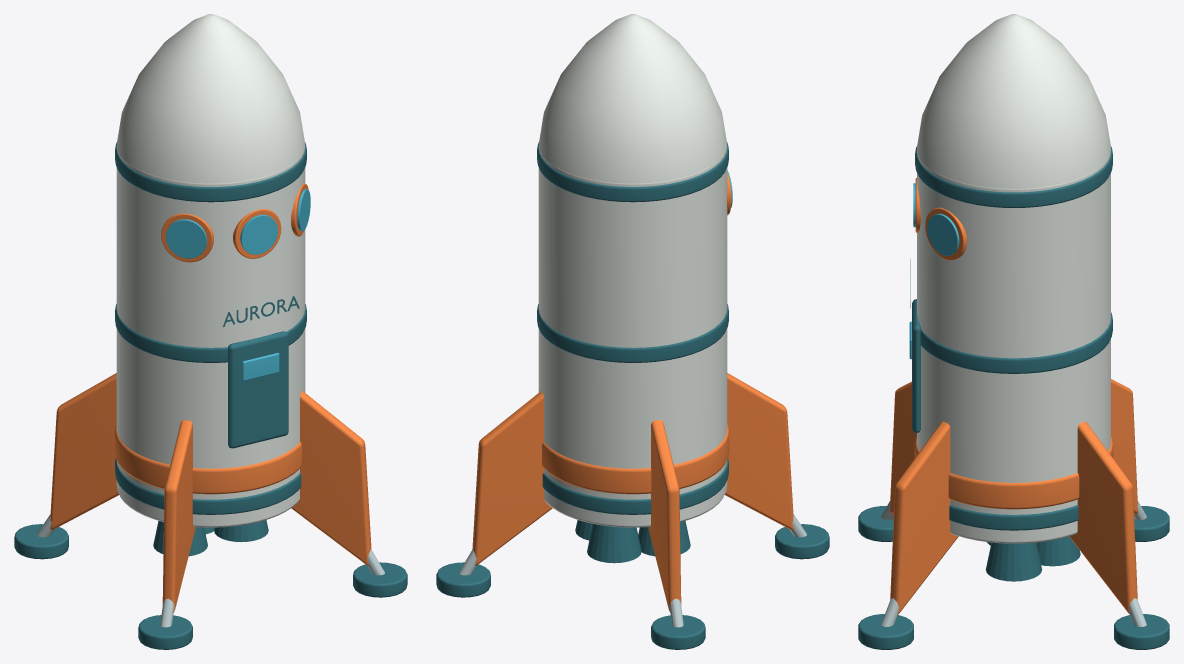
Rendered from Rocket_Return.glb.
3 renders of one model, left to right at view 1: azimuth 30°, elevation 25°; view 2: azimuth 150°, elevation 25°; view 3: azimuth 270°, elevation 25°, orthographic. The views are drawn at different scales.
Parts seen in each view (by area): view 1: Main pressure fuselage, Rounded command nose, Swept rounded fin.003, Swept rounded fin.001, Service hatch, Orange waist, Swept rounded fin.002, Hull teal ring.002, Hull teal ring, Hull teal ring.001, Landing pad.002, Landing pad.003 (+8 smaller); view 2: Main pressure fuselage, Rounded command nose, Swept rounded fin, Swept rounded fin.002, Orange waist, Swept rounded fin.001, Hull teal ring.001, Hull teal ring.002, Hull teal ring, Engine bell.002, Landing pad.001, Landing pad (+2 smaller); view 3: Main pressure fuselage, Rounded command nose, Swept rounded fin, Swept rounded fin.003, Orange waist, Hull teal ring.002, Hull teal ring.001, Swept rounded fin.001, Hull teal ring, Swept rounded fin.002, Engine bell.001, Landing pad (+7 smaller).
Part boxes in pixels (x1,y1,x2,y2): Main pressure fuselage: (116,145,305,527); Rounded command nose: (117,14,304,183); Swept rounded fin.003: (291,391,371,565); Swept rounded fin.001: (50,373,119,529); Service hatch: (228,331,288,448); Orange waist: (114,424,301,494); Swept rounded fin.002: (162,420,195,612); Hull teal ring.002: (115,142,306,202); Hull teal ring: (115,458,301,514); Hull teal ring.001: (115,304,306,362); Landing pad.002: (138,615,192,649); Landing pad.003: (353,562,407,597); Main pressure fuselage: (538,145,727,527); Rounded command nose: (539,14,726,183); Swept rounded fin: (472,391,552,565); Swept rounded fin.002: (724,373,793,529); Orange waist: (542,424,729,494); Swept rounded fin.001: (648,420,681,612); Hull teal ring.001: (537,304,728,362); Hull teal ring.002: (537,142,728,202); Hull teal ring: (542,458,728,514); Engine bell.002: (587,524,641,563); Landing pad.001: (651,615,705,649); Landing pad: (436,562,490,597); Main pressure fuselage: (917,150,1110,543); Rounded command nose: (917,14,1110,188); Swept rounded fin: (1069,421,1137,614); Swept rounded fin.003: (890,421,958,614); Orange waist: (914,436,1113,509); Hull teal ring.002: (915,146,1112,207); Hull teal ring.001: (920,312,1112,373); Swept rounded fin.001: (1111,379,1137,513); Hull teal ring: (949,505,1078,530); Swept rounded fin.002: (890,381,916,513); Engine bell.001: (985,542,1042,581); Landing pad: (1114,614,1169,649).
Size of the model in its own units: 2.76 by 5.56 by 2.76.
